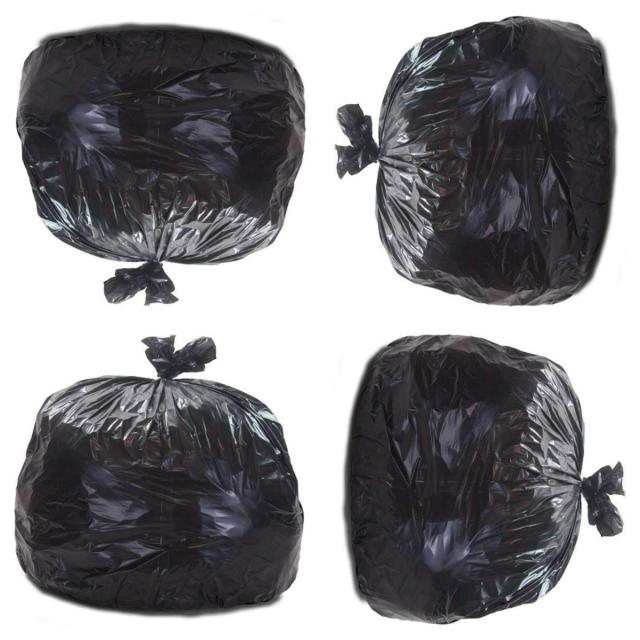Single-layer Plastic: (349, 335, 624, 624), (336, 18, 611, 305), (18, 28, 304, 303), (15, 336, 302, 610)
